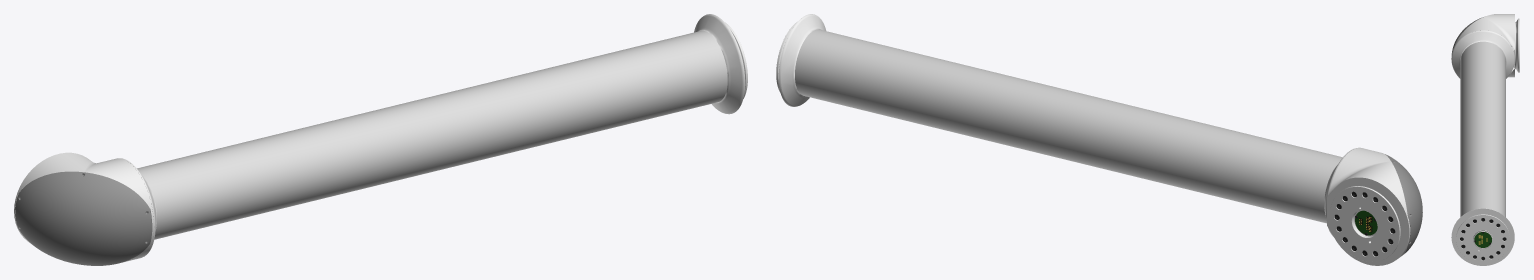
The picture shows the model from 3 angles, left to right: view 1: azimuth 30°, elevation 25°; view 2: azimuth 150°, elevation 25°; view 3: azimuth 270°, elevation 25°; orthographic projection. The views are drawn at different scales.
Parts seen in each view (by area): view 1: L148.001; view 2: L148.001; view 3: L148.001.
Boxes of the visible parts, bbox=[...] form: L148.001: bbox=[14, 14, 747, 265]; L148.001: bbox=[776, 14, 1422, 265]; L148.001: bbox=[1451, 14, 1519, 265].
Size of the model in its own units: 1.15 by 0.148 by 0.1589.
